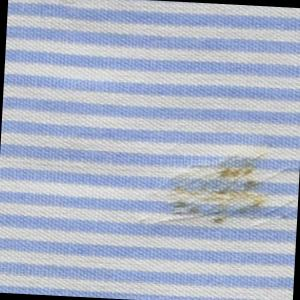Damage: (135, 144, 300, 239)
Oil Stain: (168, 151, 271, 232)
